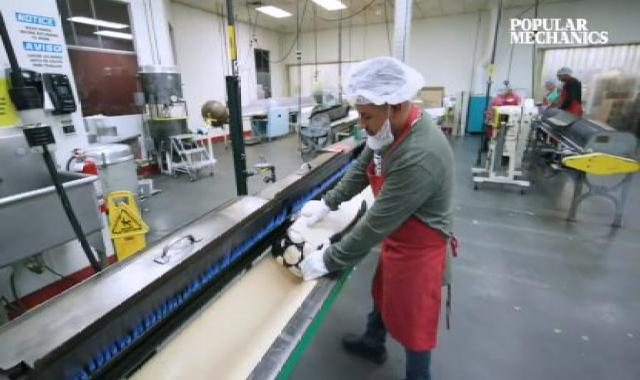hairnet: (343, 58, 430, 109), (559, 66, 583, 76)
